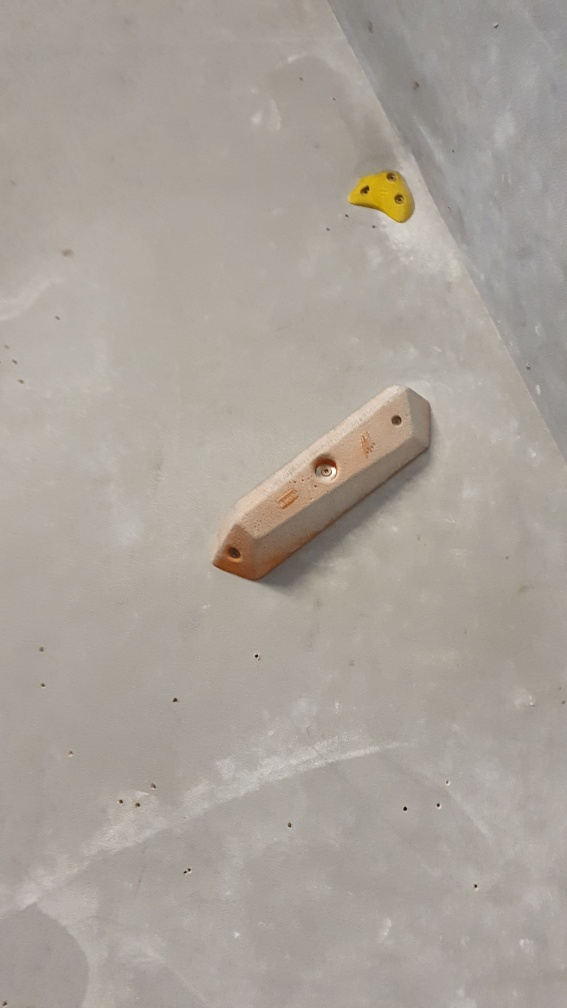Pinch: (210, 384, 433, 586)
